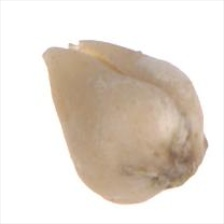L1: (159, 146, 202, 189), (41, 37, 99, 63)
L2: (42, 40, 209, 204)
